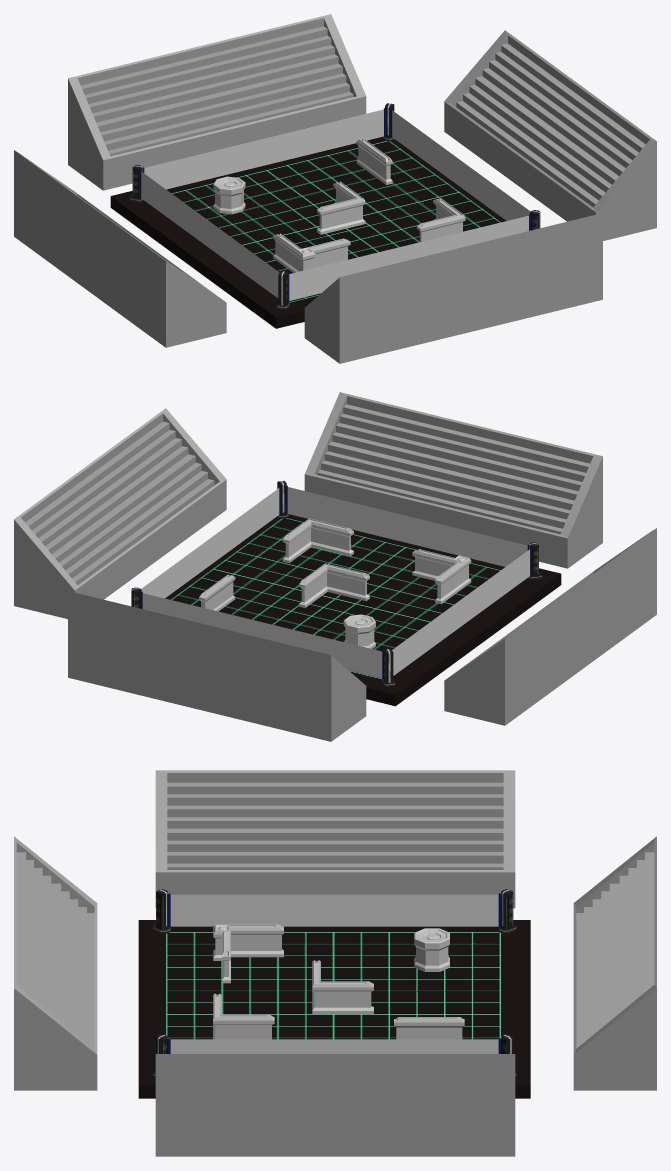
Rendered from map_v.1.1.fbx.
The picture shows the model from 3 angles, top to bottom: view 1: azimuth 30°, elevation 25°; view 2: azimuth 150°, elevation 25°; view 3: azimuth 270°, elevation 25°; orthographic projection. The views are drawn at different scales.
Visible parts, largest first — view 1: ground, polySurface13, polySurface25, polySurface2, polySurface21, polySurface26, pCube14, polySurface16, polySurface35, polySurface38, polySurface45, pTorus1 (+1 smaller); view 2: pCube14, ground, polySurface29, polySurface2, polySurface21, polySurface26, polySurface13, polySurface16, polySurface45, polySurface38, polySurface35, pTorus1 (+1 smaller); view 3: ground, polySurface16, polySurface23, polySurface21, polySurface2, polySurface29, polySurface25, pCube14, polySurface13, polySurface35, polySurface38, polySurface45 (+4 smaller).
Part boxes in pixels (left/top/right/bottom): ground: left=110, top=136, right=505, bottom=328; polySurface13: left=304, top=213, right=602, bottom=363; polySurface25: left=81, top=26, right=353, bottom=156; polySurface2: left=141, top=109, right=530, bottom=300; polySurface21: left=14, top=150, right=226, bottom=347; polySurface26: left=456, top=43, right=645, bottom=207; pCube14: left=68, top=14, right=366, bottom=190; polySurface16: left=444, top=30, right=656, bottom=240; polySurface35: left=273, top=233, right=350, bottom=272; polySurface38: left=317, top=181, right=365, bottom=234; polySurface45: left=416, top=198, right=465, bottom=241; pTorus1: left=213, top=176, right=245, bottom=214; pCube14: left=68, top=591, right=366, bottom=741; ground: left=165, top=514, right=561, bottom=706; polySurface29: left=317, top=404, right=589, bottom=534; polySurface2: left=141, top=487, right=529, bottom=678; polySurface21: left=444, top=528, right=656, bottom=725; polySurface26: left=25, top=421, right=214, bottom=585; polySurface13: left=304, top=392, right=602, bottom=568; polySurface16: left=14, top=408, right=226, bottom=618; polySurface45: left=282, top=518, right=353, bottom=562; polySurface38: left=298, top=563, right=369, bottom=607; polySurface35: left=412, top=549, right=471, bottom=604; pTorus1: left=343, top=614, right=375, bottom=648; ground: left=138, top=920, right=530, bottom=1098; polySurface16: left=155, top=1054, right=515, bottom=1156; polySurface23: left=167, top=782, right=503, bottom=869; polySurface21: left=155, top=770, right=515, bottom=908; polySurface2: left=170, top=894, right=498, bottom=1053; polySurface29: left=16, top=852, right=86, bottom=1042; polySurface25: left=584, top=852, right=654, bottom=1042; pCube14: left=573, top=836, right=656, bottom=1090; polySurface13: left=14, top=836, right=97, bottom=1090; polySurface35: left=213, top=924, right=283, bottom=983; polySurface38: left=312, top=960, right=373, bottom=1013; polySurface45: left=213, top=993, right=274, bottom=1039.
Bounding box in the file's own units: 6829 × 1164 × 6546.
